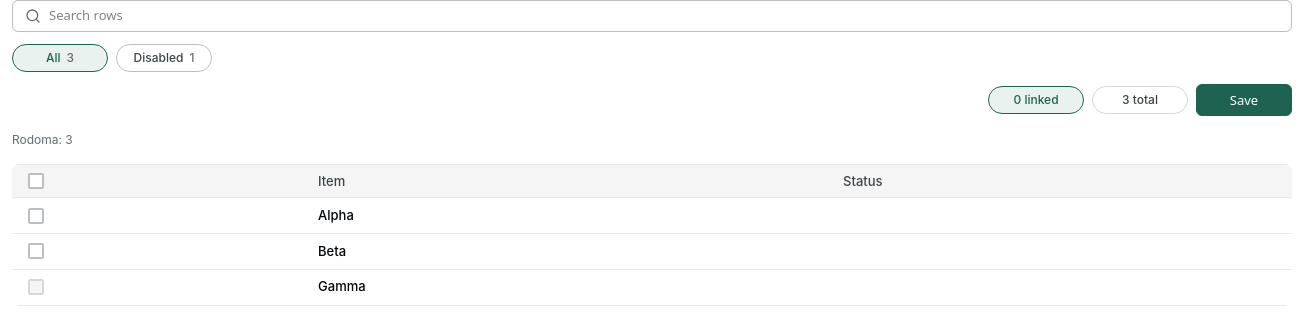
AssignmentSelector › renders whole Lithuanian result counts while retaining the actual filtered rows
The image size is (1304, 323).
Expected: the text "Rodoma: 3" is shown, x1=12 y1=132 x2=73 y2=147
Type "alpha" into the search field at coordinates (664, 16), box x1=49 y1=6 x2=1279 y2=26
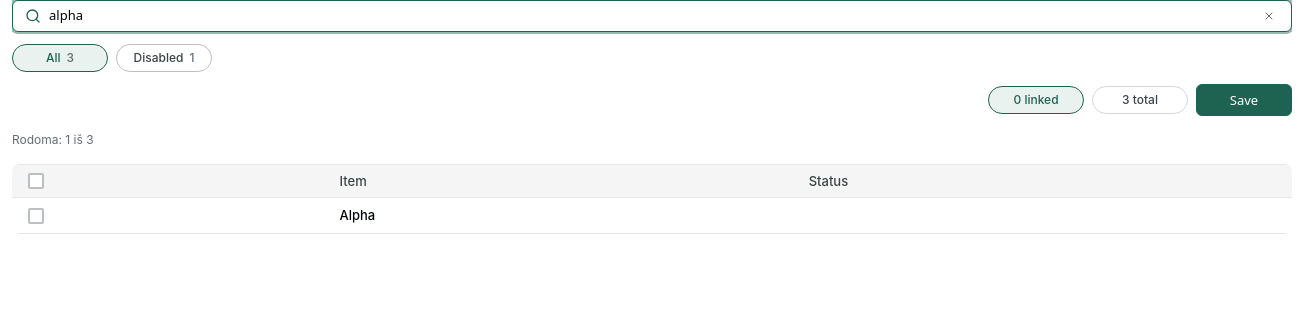
Expected: the text "Alpha" is shown, x1=340 y1=207 x2=375 y2=223
Expected: the text "Rodoma: 1 iš 3" is shown, x1=12 y1=132 x2=94 y2=147
Expected: the text "Beta" is gone
